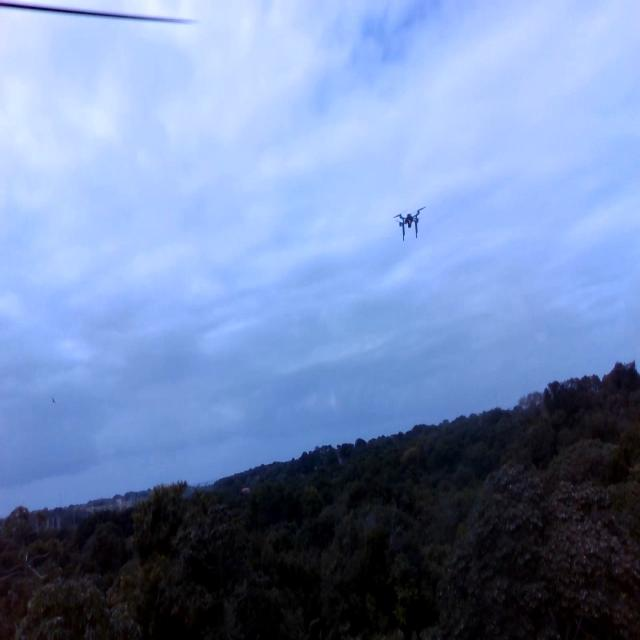-uav-: (387, 194, 430, 250)
